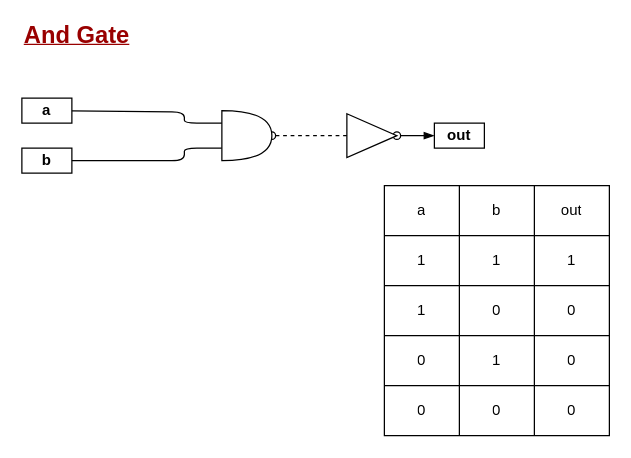
The diagram is 631 pixels wide and 458 high, and some of its shapes have lost their labels. Here are the shapes that lost their labels. From the top down, the centre of each, then its label:
At point 246,135: "Nand".
At point 371,135: "Not".
